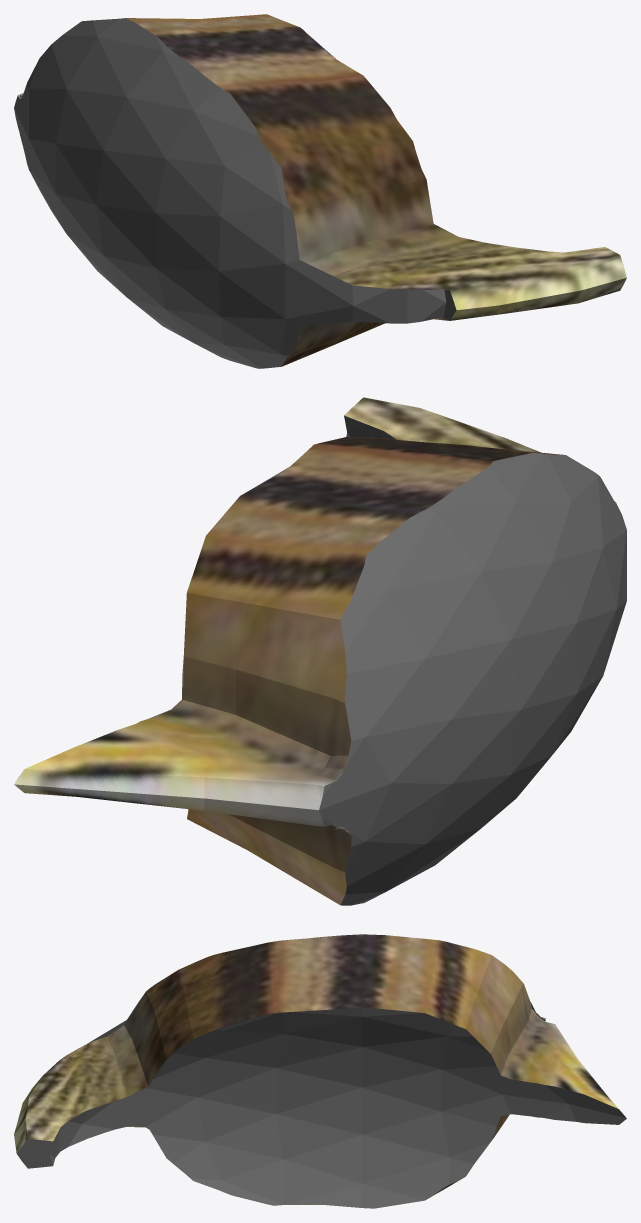
The model's file is link_8_composite.obj.
3 views of the same model, one above another, from view 1: azimuth 30°, elevation 25°; view 2: azimuth 150°, elevation 25°; view 3: azimuth 270°, elevation 25° (orthographic). The views are drawn at different scales.
Size of the model in its own units: 0.00201 by 0.00167 by 0.00395.
Materials: 1 (1 with a texture image).
